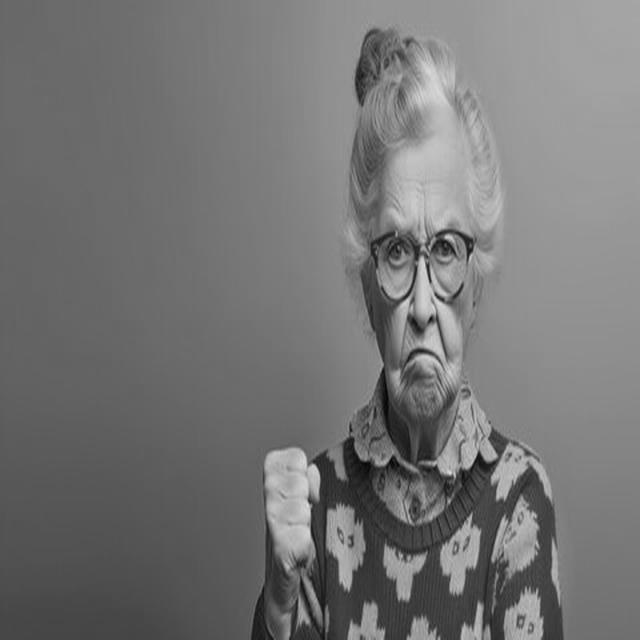Angry: (370, 142, 475, 419)
